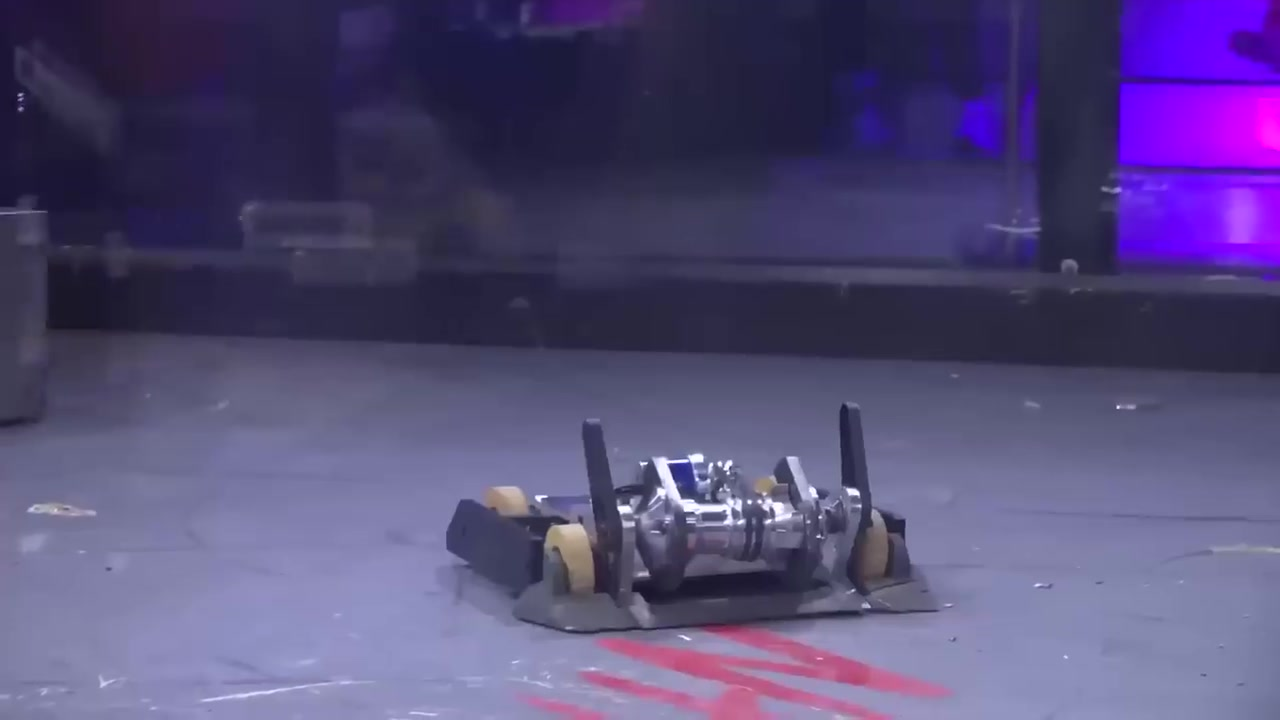combatbot: (447, 453, 936, 637)
housebot: (0, 208, 48, 437)
